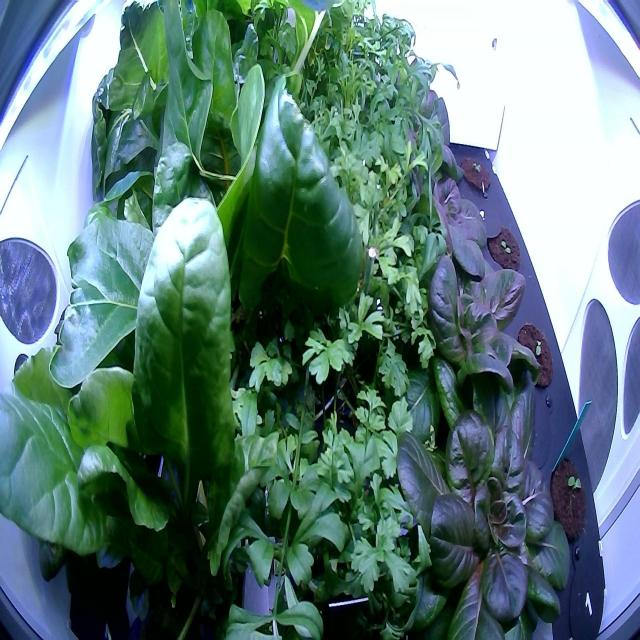germination: (548, 450, 590, 550), (511, 316, 555, 393), (484, 220, 522, 275), (456, 151, 494, 198)
young: (379, 367, 575, 640), (392, 232, 547, 401)
